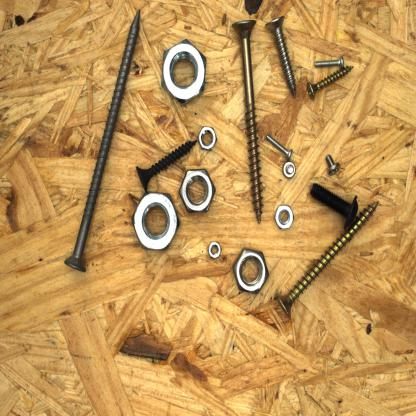screw: (62, 6, 143, 276), (273, 197, 384, 322), (230, 16, 266, 226), (133, 136, 201, 195), (306, 180, 364, 238), (264, 12, 300, 100), (304, 63, 356, 103), (265, 131, 296, 164), (312, 52, 348, 70), (322, 152, 342, 178)
